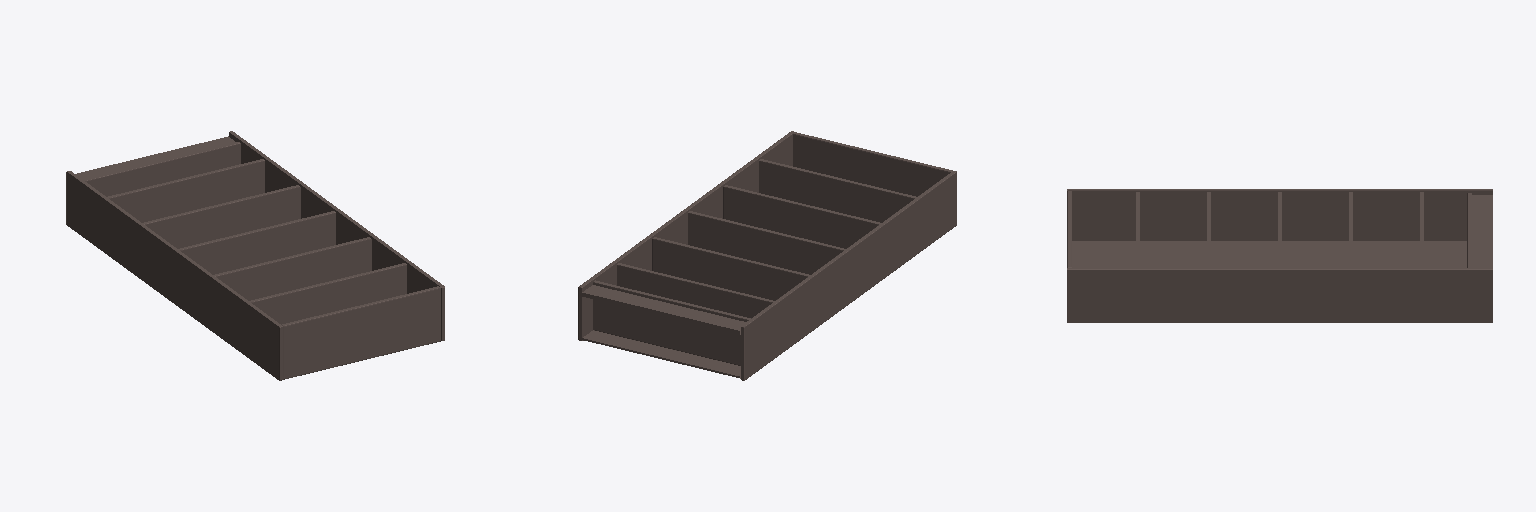
Rendered from Shelfs.obj.
The picture shows the model from 3 angles: view 1: azimuth 30°, elevation 25°; view 2: azimuth 150°, elevation 25°; view 3: azimuth 270°, elevation 25°; orthographic projection.
Visible parts, largest first — view 1: PPAS_Bookshelf; view 2: PPAS_Bookshelf; view 3: PPAS_Bookshelf.
Boxes of the visible parts, x1=… form: PPAS_Bookshelf: x1=66, y1=131, x2=444, y2=380; PPAS_Bookshelf: x1=578, y1=131, x2=956, y2=380; PPAS_Bookshelf: x1=1067, y1=189, x2=1492, y2=322.
Size of the model in its own units: 0.8998 by 0.2799 by 2.